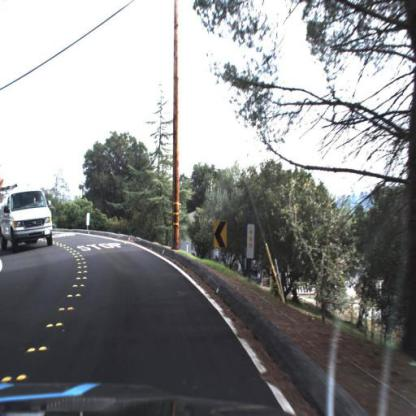car: (1, 186, 55, 256)
